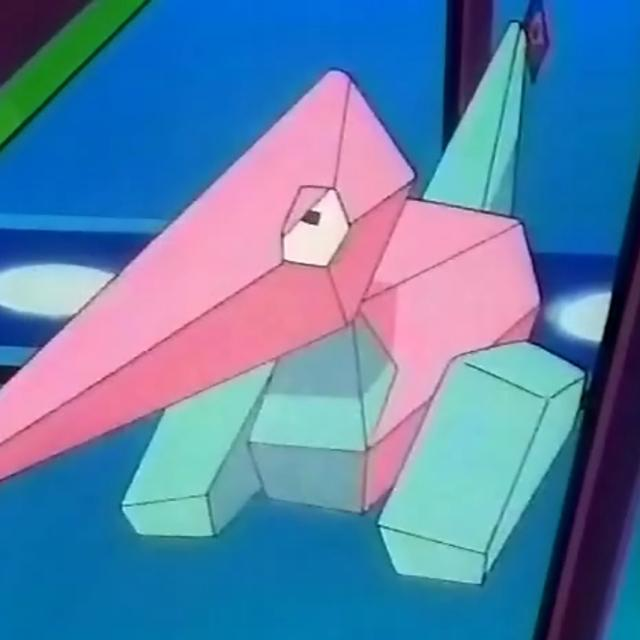Porygon: (121, 83, 547, 546)
